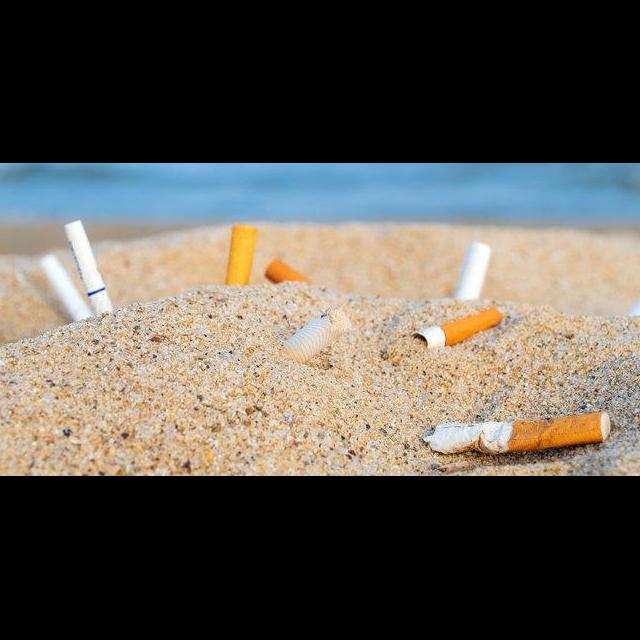Cigarette Butt: (419, 410, 612, 457), (62, 219, 117, 318), (281, 305, 356, 367), (409, 307, 505, 354), (38, 253, 96, 324), (451, 240, 494, 305), (224, 223, 261, 288), (263, 257, 317, 292), (628, 274, 640, 320)
